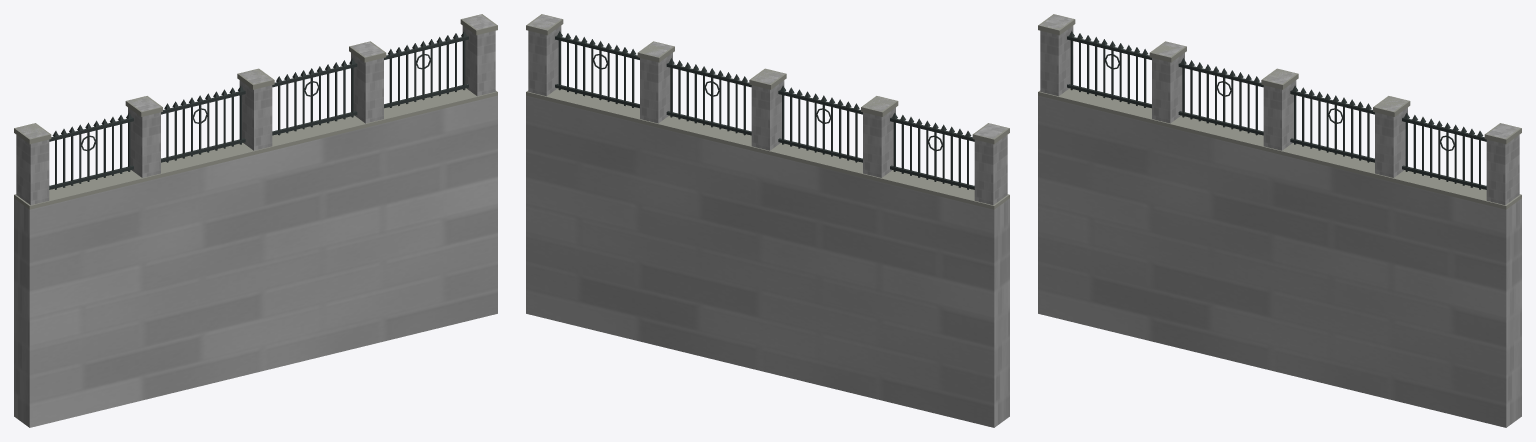
The model's file is SM_QD_Church_Fence_202.fbx.
3 views of the same model, side by side, from view 1: azimuth 30°, elevation 25°; view 2: azimuth 150°, elevation 25°; view 3: azimuth 330°, elevation 25° (orthographic).
Parts seen in each view (by area): view 1: SM_QD_Church_Fence_202; view 2: SM_QD_Church_Fence_202; view 3: SM_QD_Church_Fence_202.
Boxes of the visible parts, x1=… form: SM_QD_Church_Fence_202: x1=14, y1=14, x2=497, y2=427; SM_QD_Church_Fence_202: x1=526, y1=14, x2=1009, y2=427; SM_QD_Church_Fence_202: x1=1038, y1=14, x2=1521, y2=427.
Size of the model in its own units: 9.34 by 0.5391 by 5.5.
